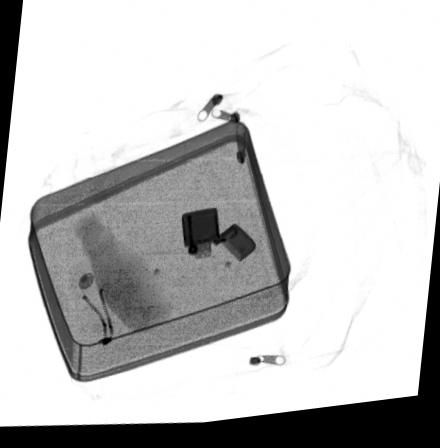Lighter: (180, 211, 256, 268)
